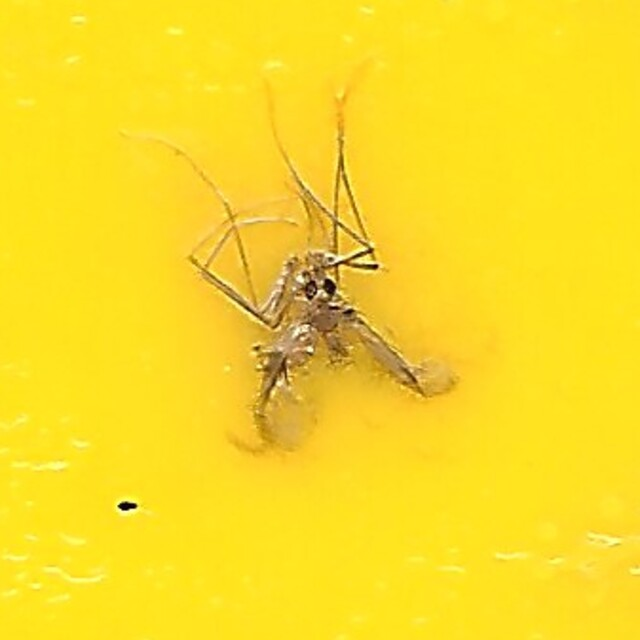Nematocera: (190, 182, 450, 458)
